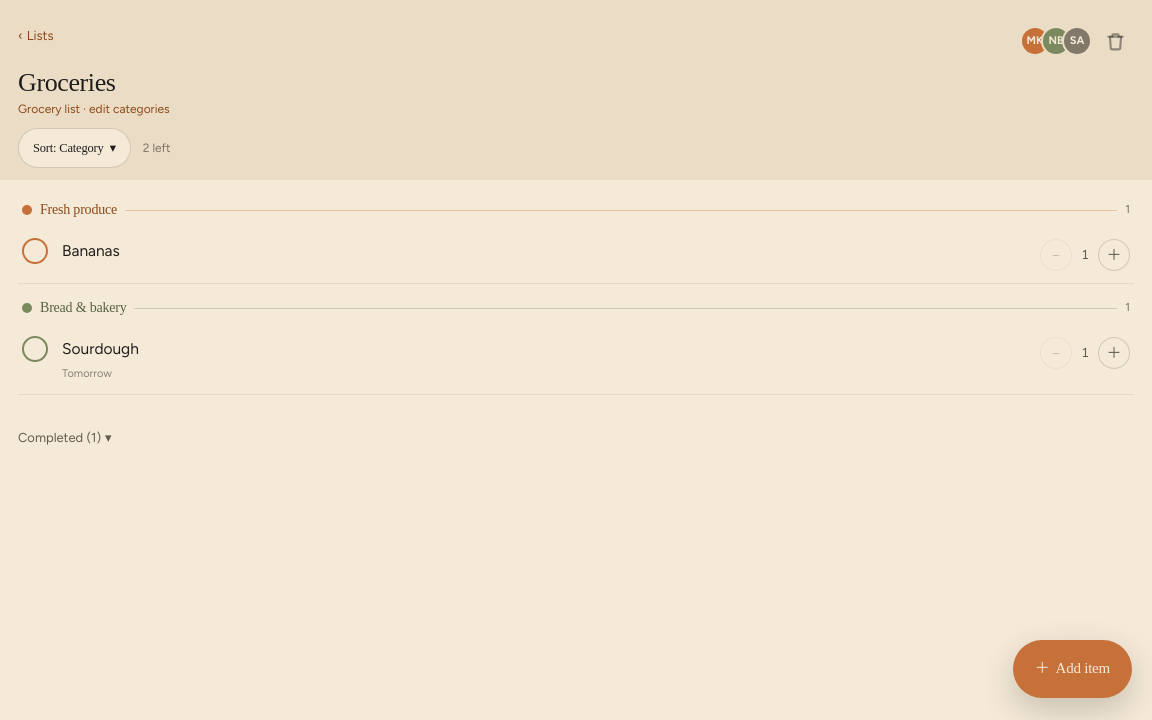
Test: ListDetailScreen deletion › confirms before deleting rather than acting on the first tap
This screenshot has width=1152, height=720.
expect the heading "Groceries" is shown: met, box [18,68,116,97]
Click the button named "Delete Groceries".
click(1115, 41)  # box [1096,22,1134,60]
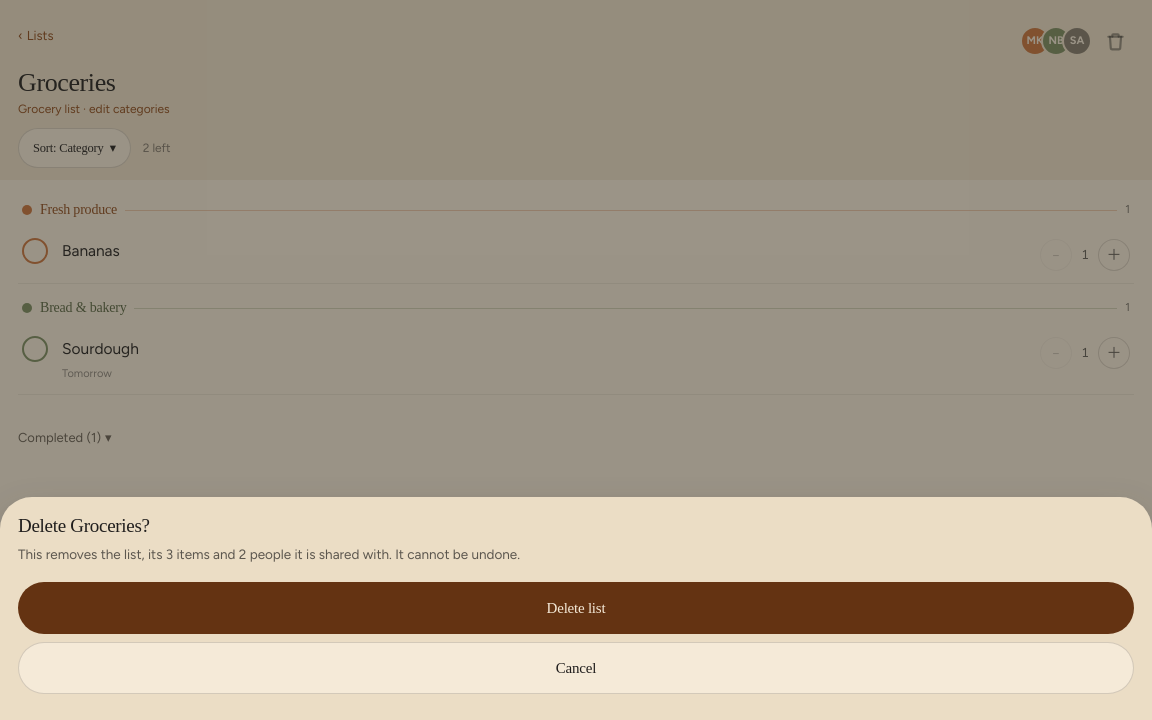
expect the dialog "Delete Groceries?" is shown: met, box [0,497,1151,719]
